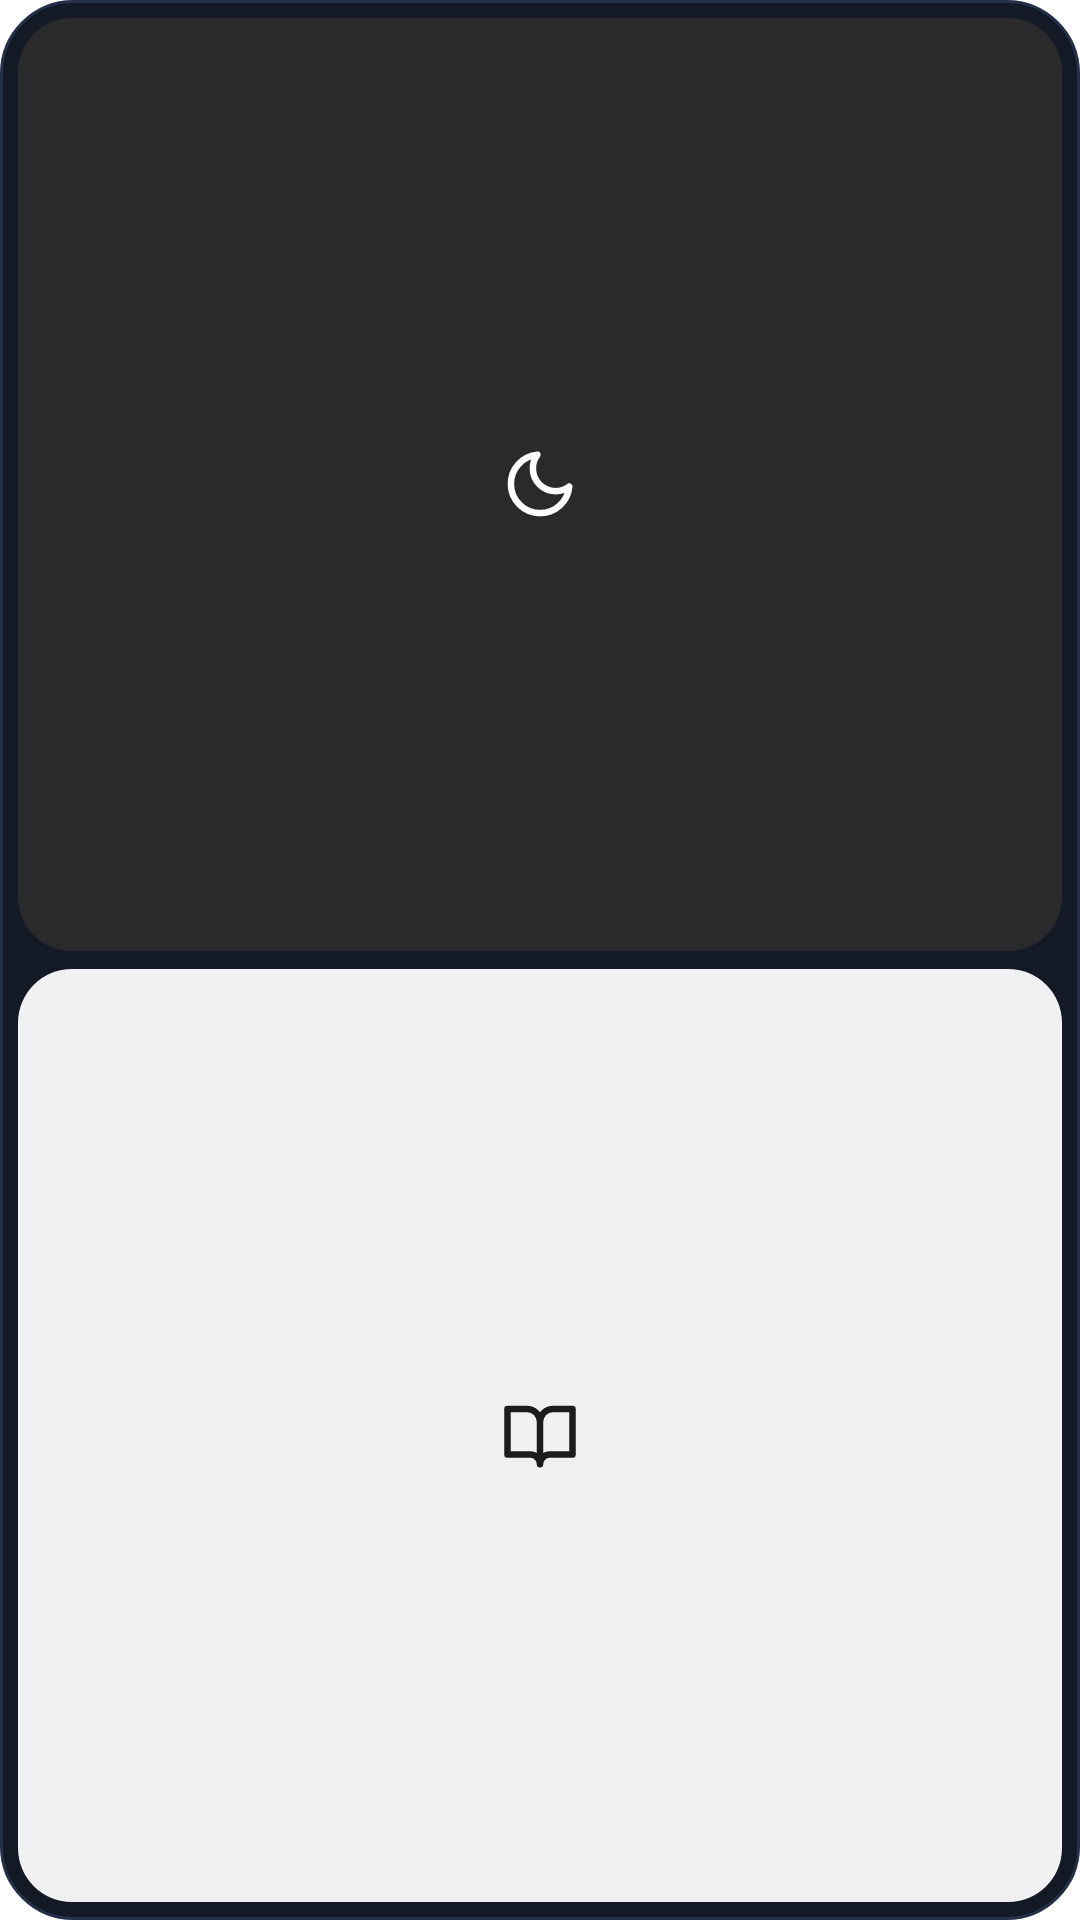

Icons on this 1080px x 1920px Android screen, each with its box as (x1, y1, x2, y2):
Add reading session: (504, 1405, 576, 1468)
Add sleep session: (507, 451, 573, 517)
